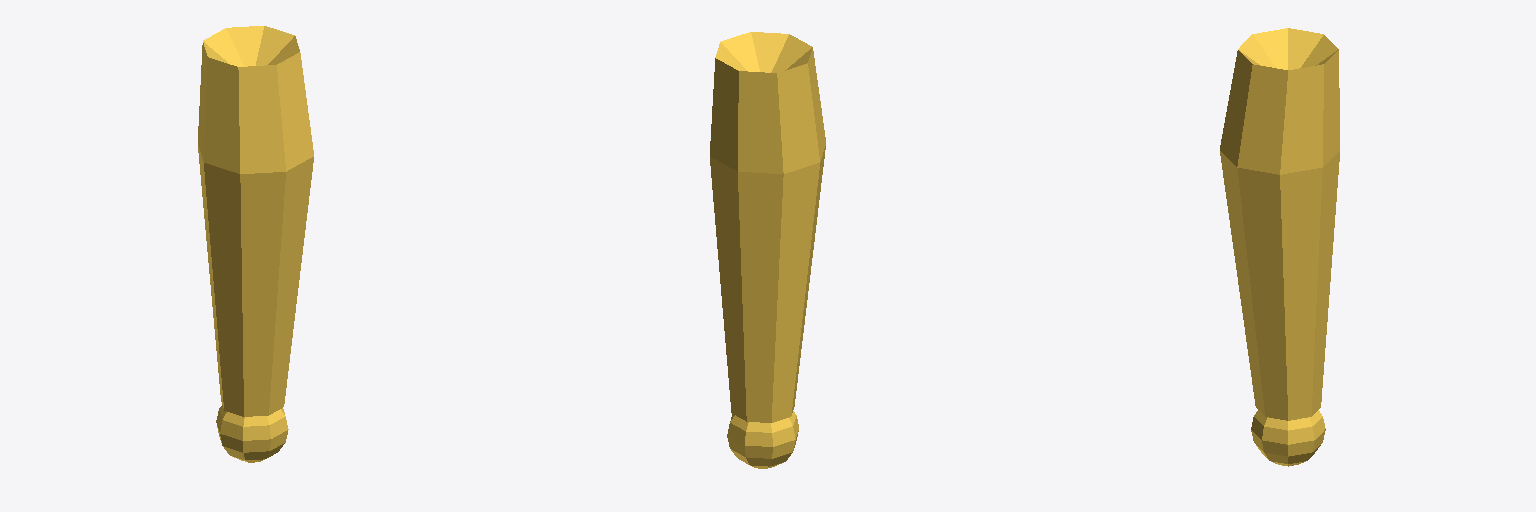
File: leg.obj
The picture shows the model from 3 angles: view 1: azimuth 30°, elevation 25°; view 2: azimuth 150°, elevation 25°; view 3: azimuth 270°, elevation 25°; orthographic projection.
Visible parts, largest first — view 1: Cylinder.001; view 2: Cylinder.001; view 3: Cylinder.001.
Boxes of the visible parts, x1=… form: Cylinder.001: x1=198, y1=26, x2=313, y2=462; Cylinder.001: x1=710, y1=32, x2=825, y2=468; Cylinder.001: x1=1220, y1=28, x2=1339, y2=466.
Size of the model in its own units: 0.9691 by 3.66 by 0.9691.